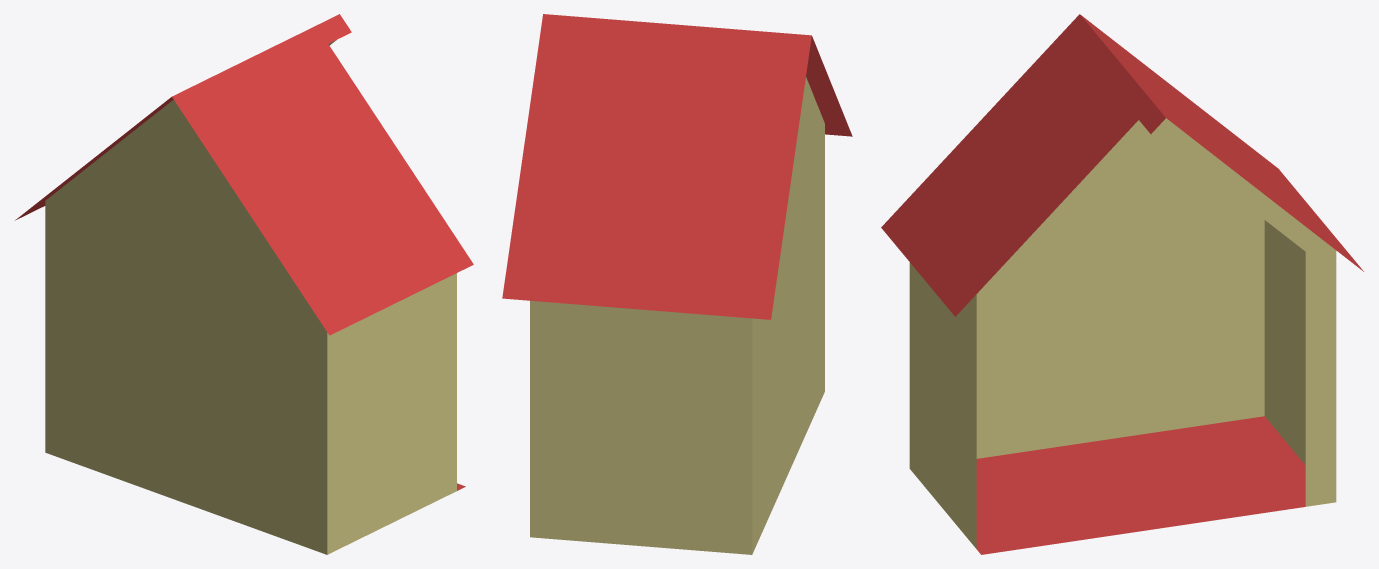
3 renders of one model, left to right at view 1: azimuth 30°, elevation 25°; view 2: azimuth 150°, elevation 25°; view 3: azimuth 270°, elevation 25°, orthographic. The views are drawn at different scales.
Bounding box in the file's own units: 11.88 × 16.1 × 15.4.
